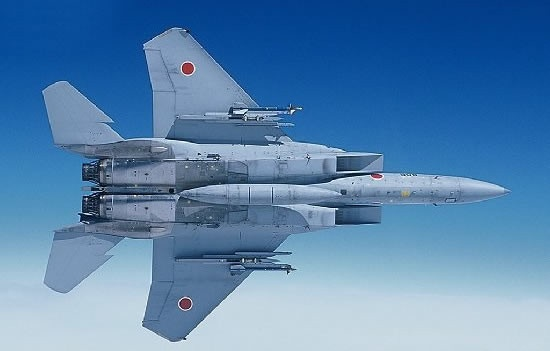airplane: (41, 26, 512, 343)
